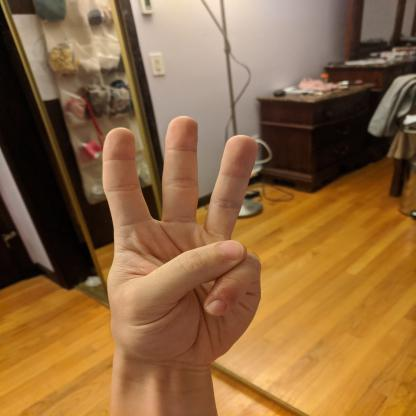W: (98, 113, 268, 370)
